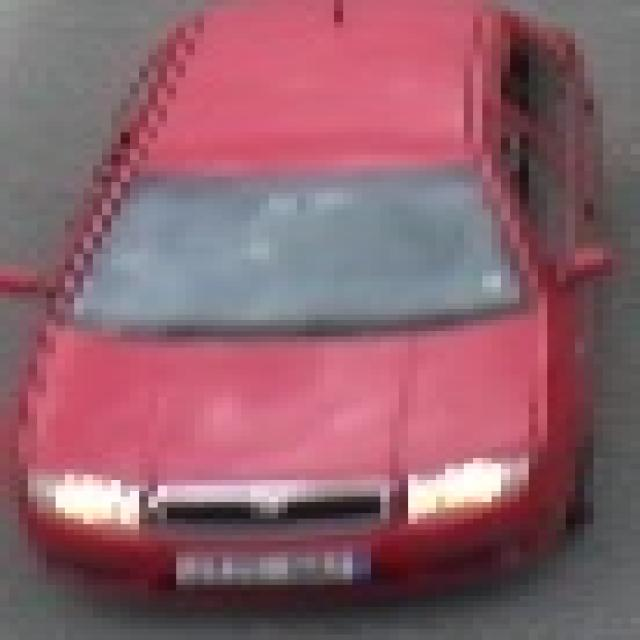red: (0, 0, 584, 601)
